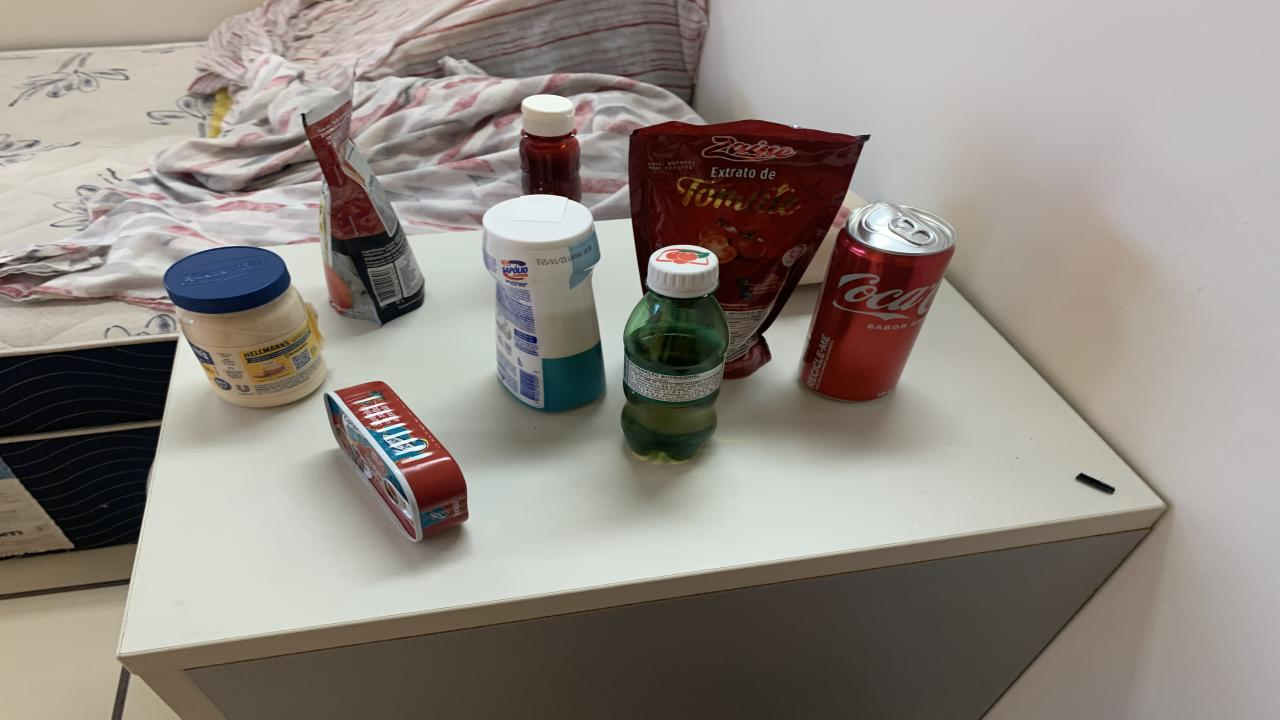Cleaner-Cleanup_Items: (482, 195, 605, 411)
Coke-Drinks: (800, 202, 955, 401)
Guarana-Drinks: (622, 244, 728, 461)
Ketchup-Pantry_Items: (520, 94, 582, 202)
Mayonnaise-Pantry_Items: (165, 246, 325, 407)
Tomato_Sauce-Pantry_Items: (630, 120, 868, 377), (302, 84, 425, 324)
Tuna_Can-Pantry_Items: (325, 381, 468, 542)
